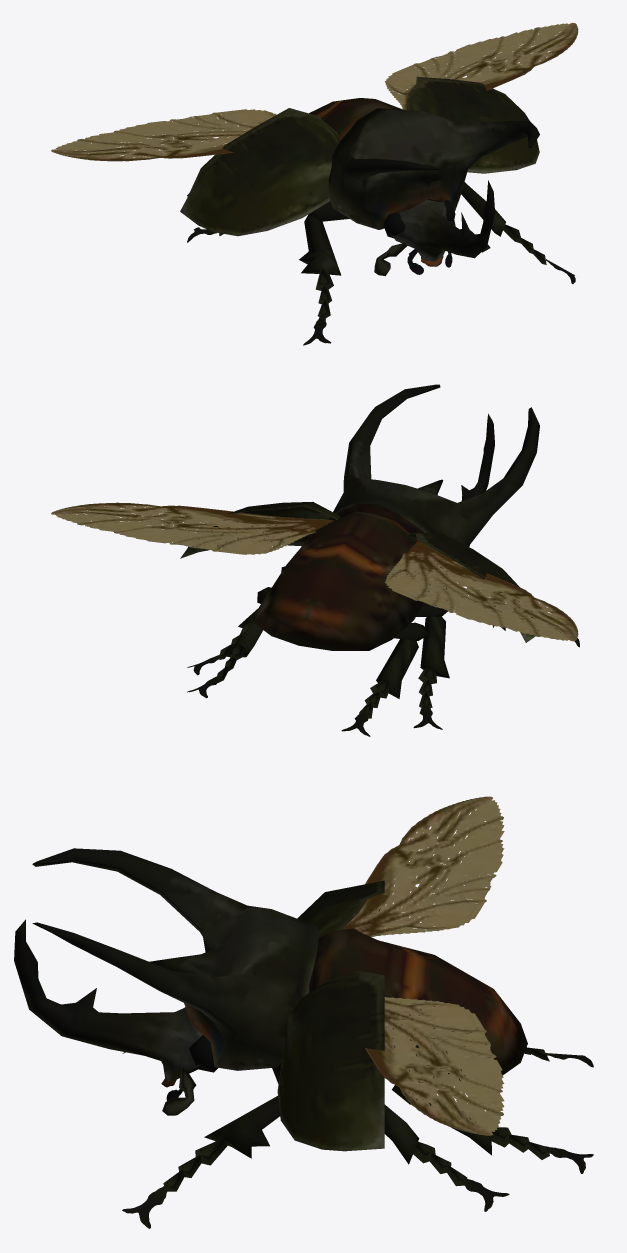
Rendered from horned-atlas.glb.
The picture shows the model from 3 angles, top to bottom: view 1: azimuth 30°, elevation 25°; view 2: azimuth 150°, elevation 25°; view 3: azimuth 270°, elevation 25°; orthographic projection. The views are drawn at different scales.
Bounding box in the file's own units: 8.82 × 2.7 × 5.76.
2 materials, 2 textured.
